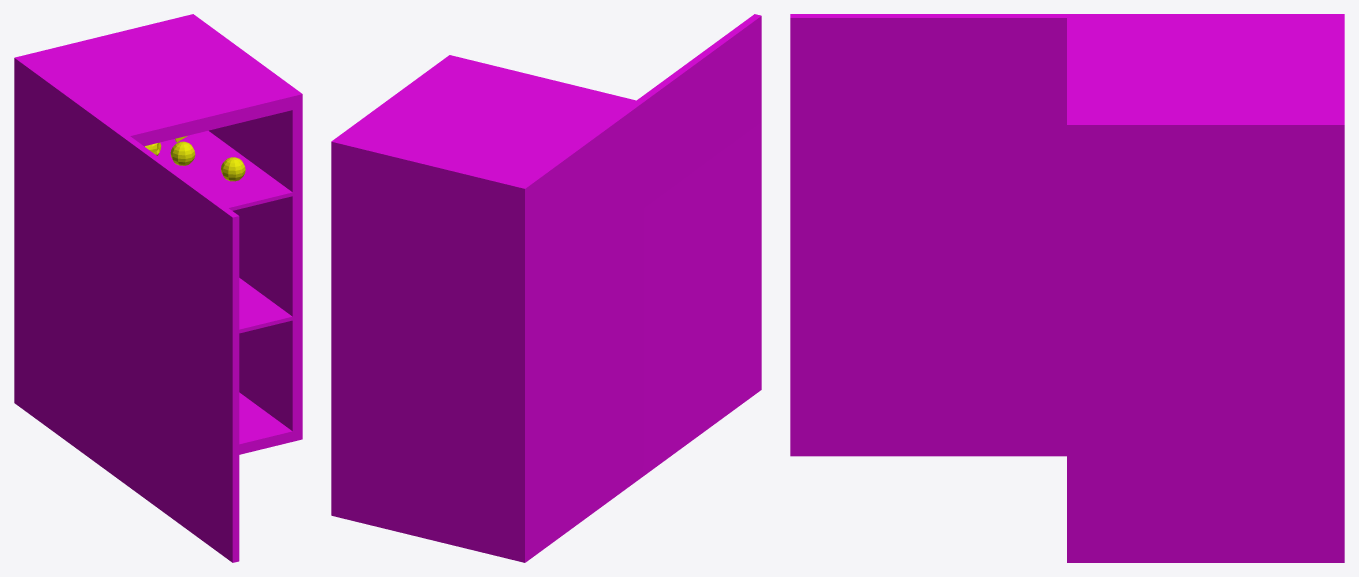
3 renders of one model, left to right at view 1: azimuth 30°, elevation 25°; view 2: azimuth 150°, elevation 25°; view 3: azimuth 270°, elevation 25°, orthographic. The views are drawn at different scales.
Parts seen in each view (by area): view 1: Fridge_001, Character_001, Character_004; view 2: Fridge_001; view 3: Fridge_001.
Boxes of the visible parts, <box> form: Fridge_001: <box>14,14,302,562</box>; Character_001: <box>170,141,195,165</box>; Character_004: <box>221,157,245,181</box>; Fridge_001: <box>331,14,761,562</box>; Fridge_001: <box>790,14,1344,562</box>.
Size of the model in its own units: 12.23 by 22.53 by 25.84.
